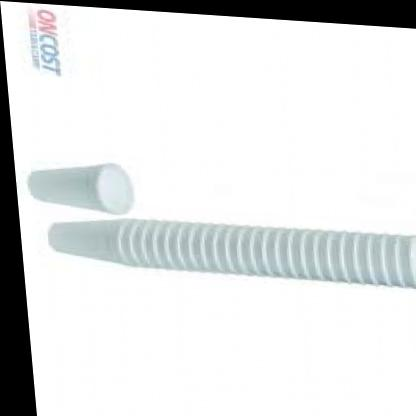Plastic: (9, 121, 416, 330)
